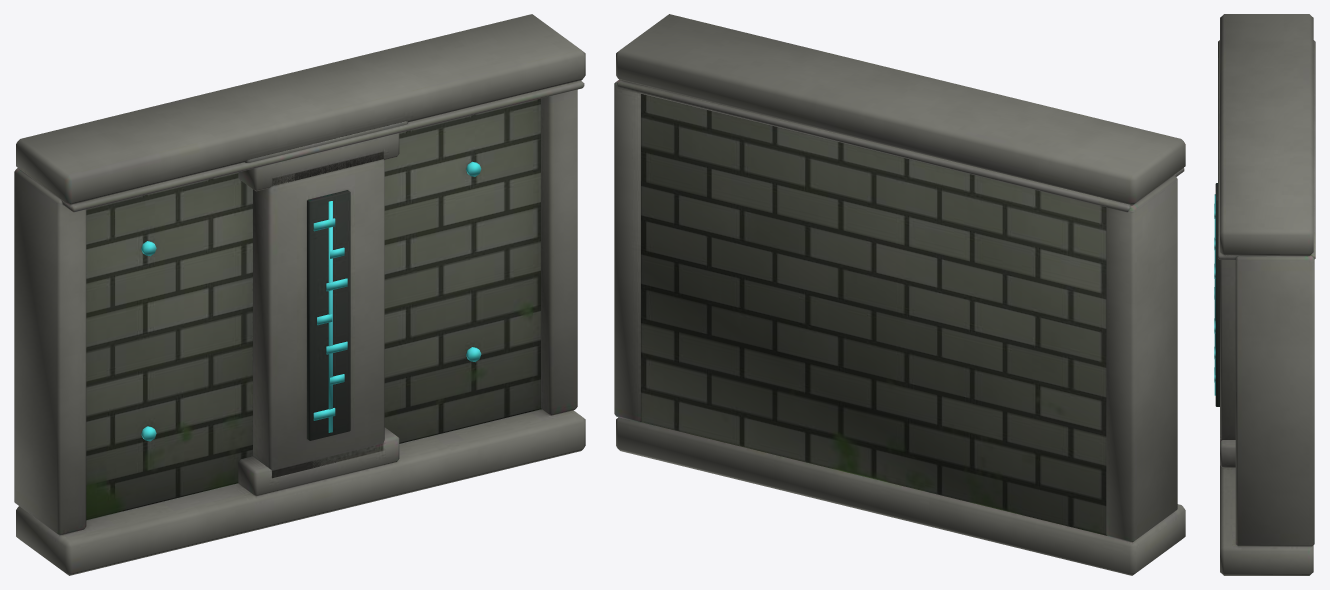
File: wall_pilaster_rune.glb
The picture shows the model from 3 angles, left to right: view 1: azimuth 30°, elevation 25°; view 2: azimuth 150°, elevation 25°; view 3: azimuth 270°, elevation 25°; orthographic projection. The views are drawn at different scales.
Parts seen in each view (by area): view 1: wall_pilaster_rune.001; view 2: wall_pilaster_rune.001; view 3: wall_pilaster_rune.001.
Boxes of the visible parts, x1,y1,x2,y2 form: wall_pilaster_rune.001: (14,14,585,575); wall_pilaster_rune.001: (614,14,1185,575); wall_pilaster_rune.001: (1214,14,1315,575).
Size of the model in its own units: 2.5 by 1.84 by 0.4875.
1 material, 1 textured.
